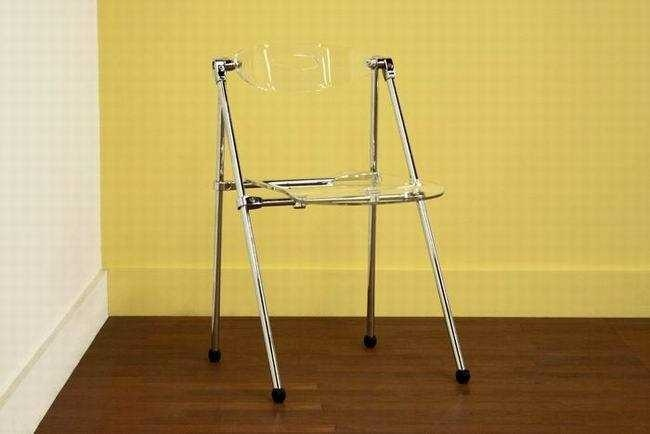obstacle: (208, 57, 470, 402)
